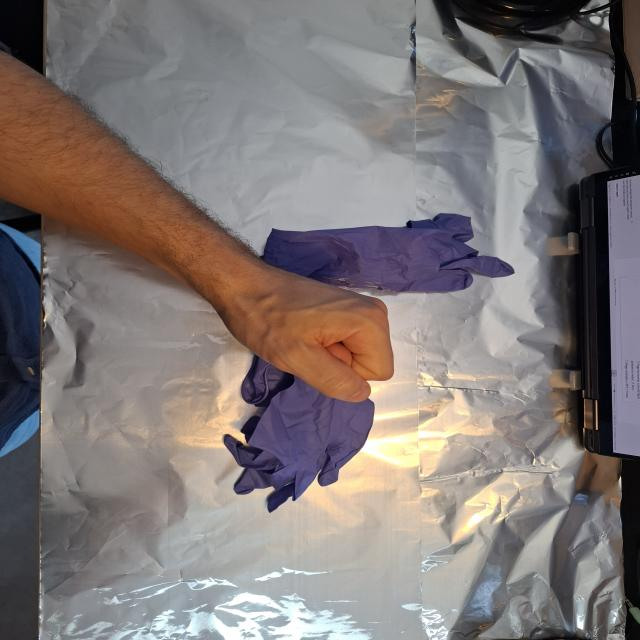glove_off: (202, 256, 398, 404)
